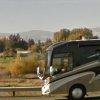Bus: (43, 37, 100, 100)
